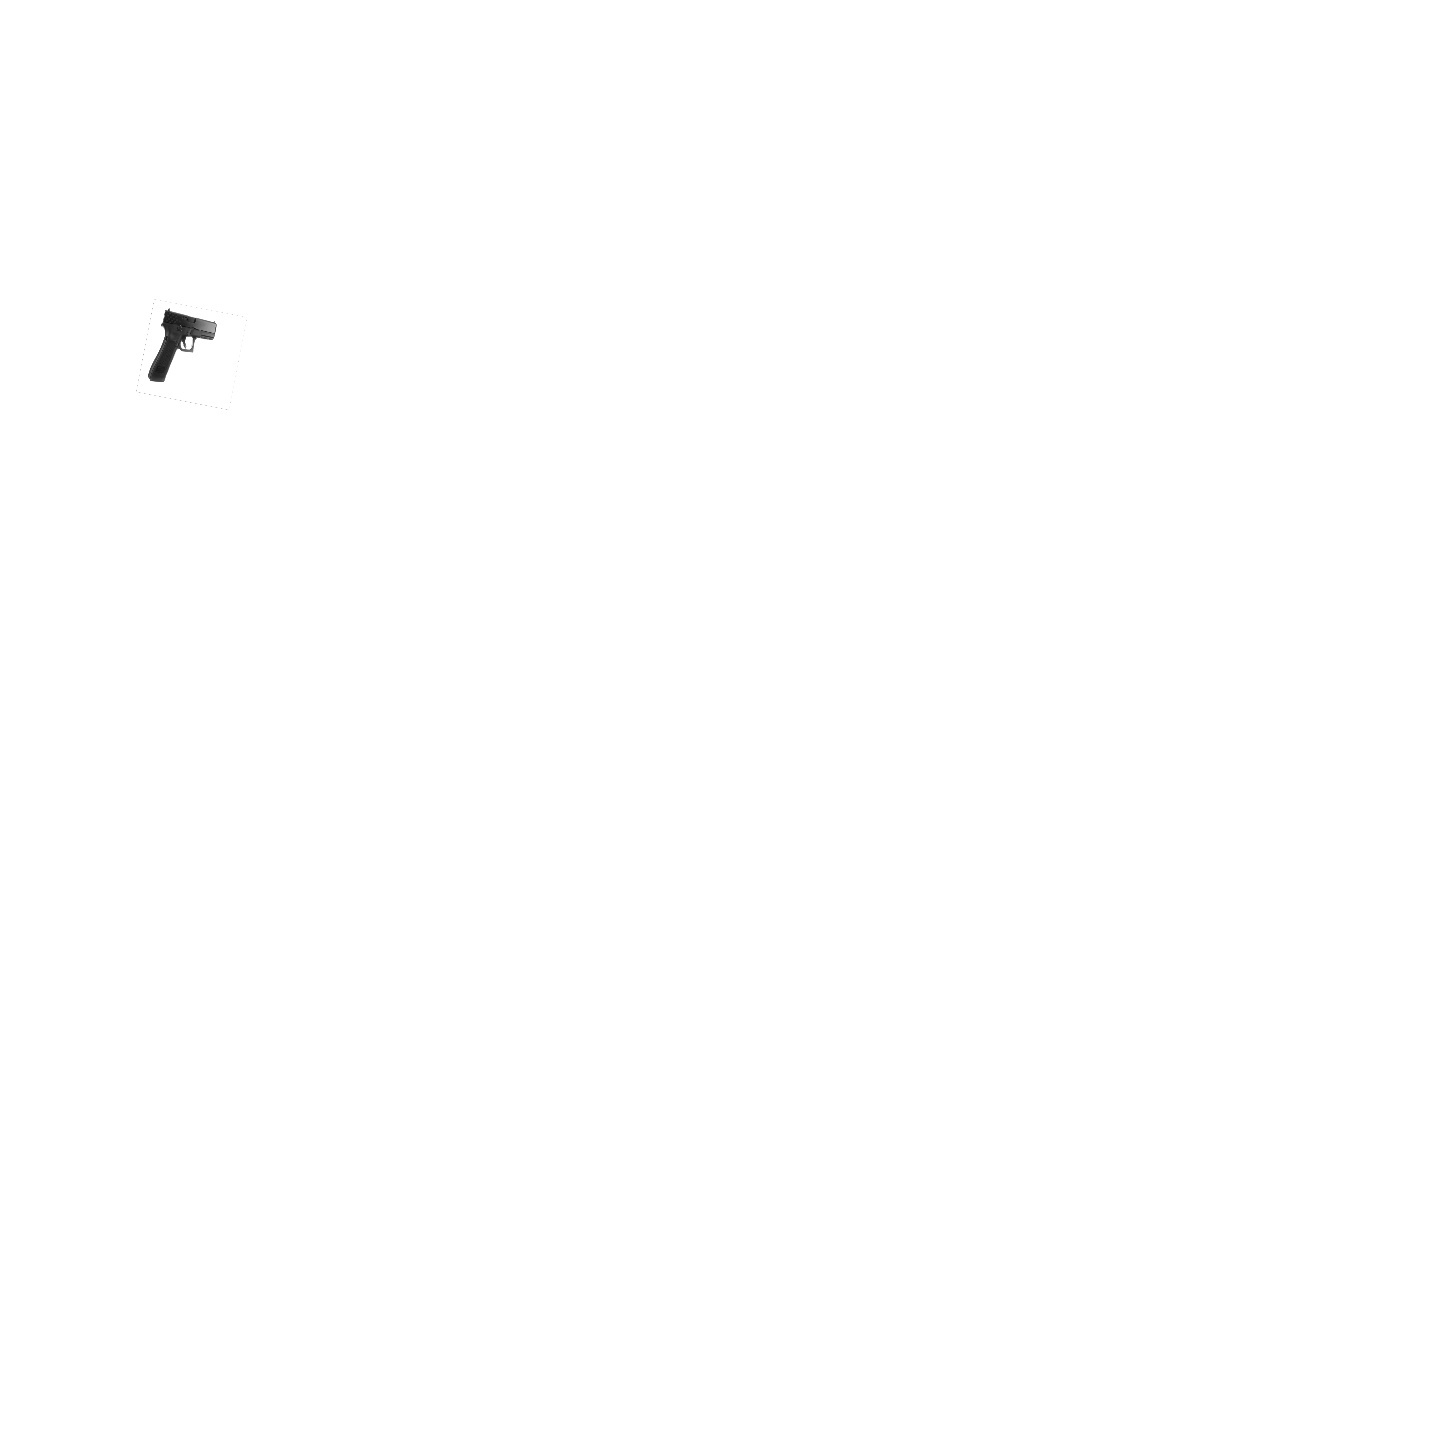gun: (144, 306, 220, 385)
